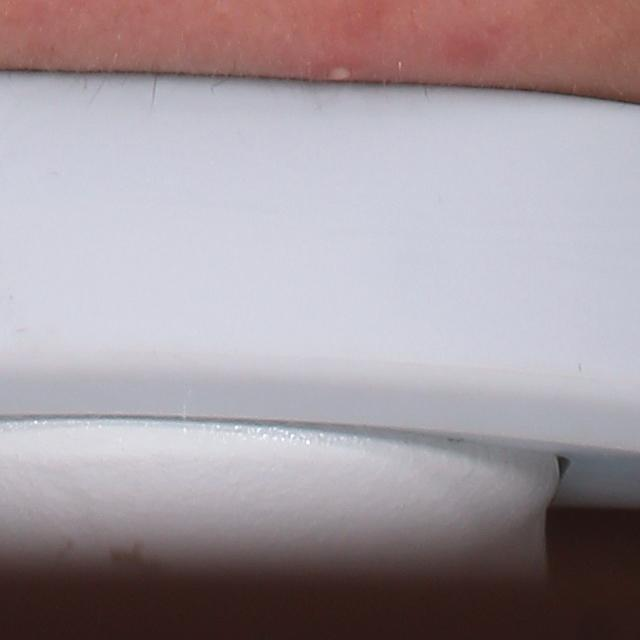pustule: (317, 55, 357, 84)
